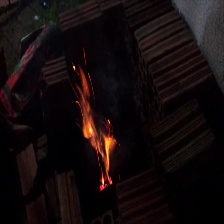fire: (75, 69, 127, 194)
